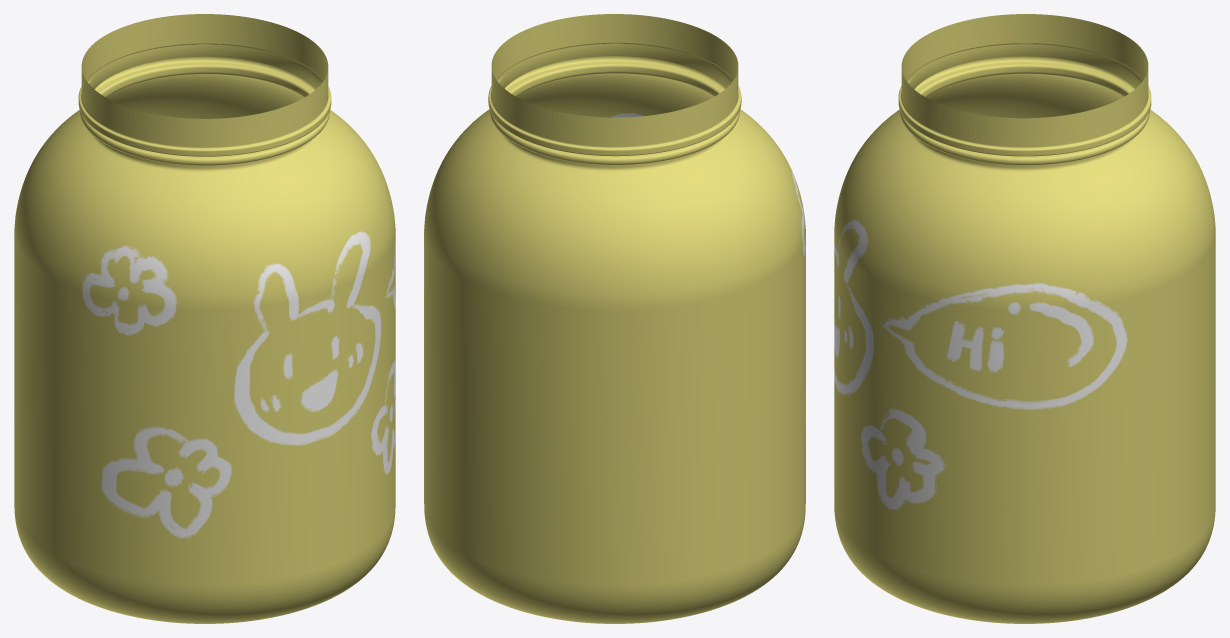
Rendered from bottle.fbx.
3 renders of one model, left to right at view 1: azimuth 30°, elevation 25°; view 2: azimuth 150°, elevation 25°; view 3: azimuth 270°, elevation 25°, orthographic.
Parts seen in each view (by area): view 1: bottle_bottle; view 2: bottle_bottle; view 3: bottle_bottle.
Part boxes in pixels (<box>): bottle_bottle: <box>14,14,395,623</box>; bottle_bottle: <box>424,14,805,623</box>; bottle_bottle: <box>834,14,1215,623</box>.
Size of the model in its own units: 131 by 189 by 131.
1 material, 1 textured.
